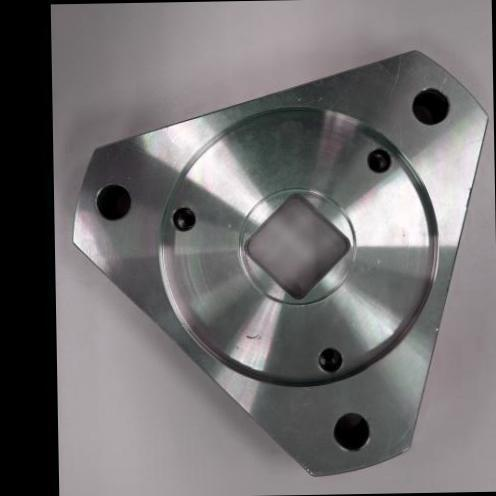hole: (330, 408, 374, 454), (409, 85, 452, 127), (92, 180, 134, 221), (313, 344, 346, 375), (168, 202, 198, 232), (365, 144, 394, 174)
